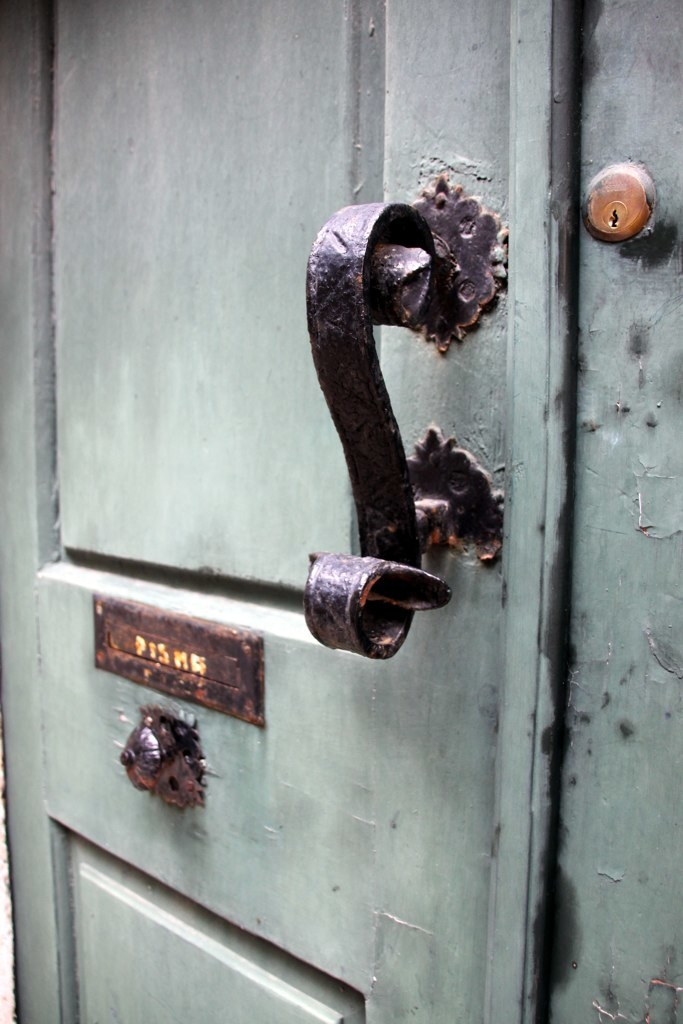door: (11, 41, 501, 959), (592, 84, 683, 981)
handle: (286, 192, 462, 750), (132, 718, 180, 791)
